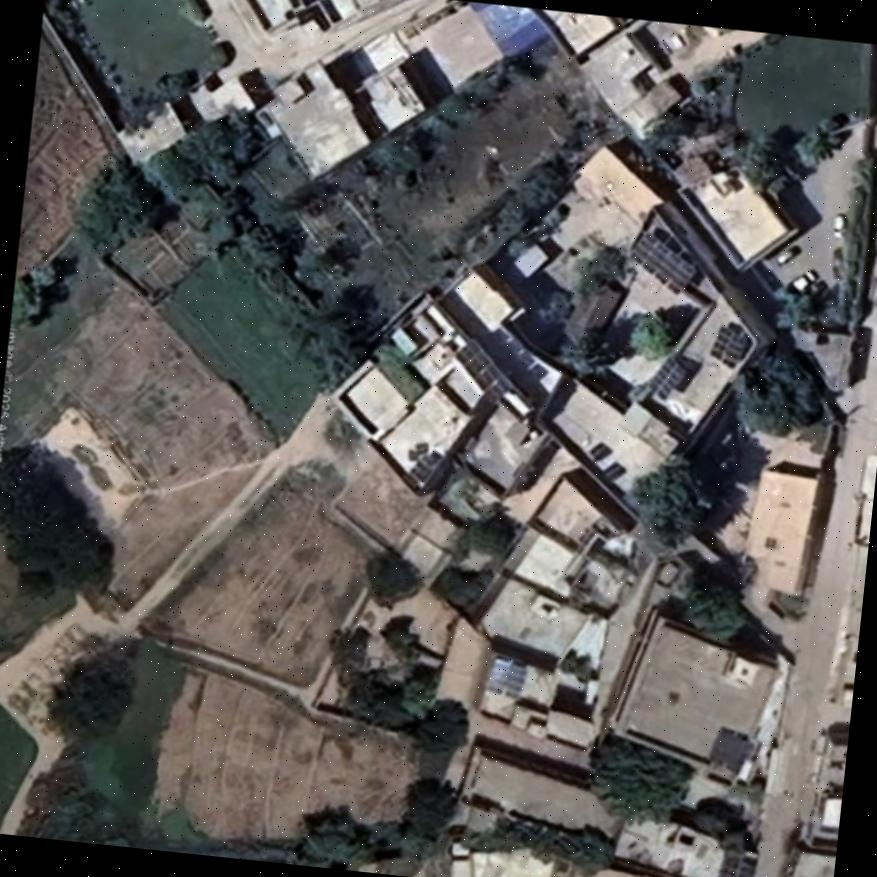Solarpanel: (630, 229, 697, 291), (648, 356, 685, 400), (714, 324, 745, 369), (717, 851, 754, 877)
